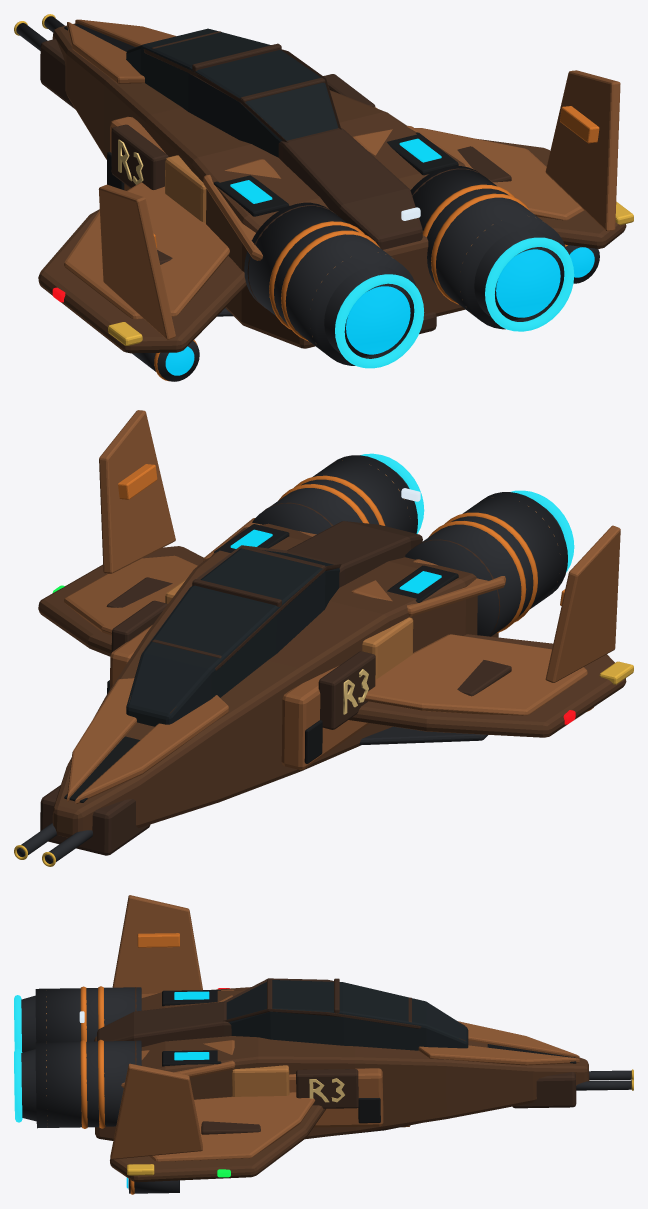
The model's file is raider3.glb.
The picture shows the model from 3 angles, top to bottom: view 1: azimuth 30°, elevation 25°; view 2: azimuth 150°, elevation 25°; view 3: azimuth 270°, elevation 25°; orthographic projection. The views are drawn at different scales.
Parts seen in each view (by area): view 1: Static_Raider3BrownArmor, Static_Raider3UmberHull, Static_EngineIron, Static_Raider3DarkArmor, Canopy, Static_Raider3BurntOrange, ThrusterR, ThrusterL, Static_Raider3Recess, AfterburnerR, AfterburnerL, Static_Raider3WarmArmor (+5 smaller); view 2: Static_Raider3BrownArmor, Static_Raider3UmberHull, Static_EngineIron, Canopy, Static_Raider3DarkArmor, Static_Raider3BurntOrange, Static_Raider3Recess, Static_Raider3WarmArmor, Static_SystemsGlow, AfterburnerL, AfterburnerR, Static_Raider3OchreDetail; view 3: Static_Raider3BrownArmor, Static_Raider3UmberHull, Static_EngineIron, Canopy, Static_Raider3DarkArmor, Static_Raider3BurntOrange, Static_Raider3Recess, Static_Raider3WarmArmor, Static_SystemsGlow, AfterburnerR, AfterburnerL.
Part boxes in pixels (bbox=[...]): Static_Raider3BrownArmor: bbox=[64, 19, 620, 339]; Static_Raider3UmberHull: bbox=[38, 23, 626, 353]; Static_EngineIron: bbox=[16, 16, 599, 381]; Static_Raider3DarkArmor: bbox=[40, 31, 511, 334]; Canopy: bbox=[126, 28, 338, 157]; Static_Raider3BurntOrange: bbox=[153, 106, 599, 381]; ThrusterR: bbox=[496, 249, 560, 317]; ThrusterL: bbox=[346, 286, 410, 354]; Static_Raider3Recess: bbox=[64, 23, 458, 216]; AfterburnerR: bbox=[485, 237, 574, 331]; AfterburnerL: bbox=[335, 274, 424, 368]; Static_Raider3WarmArmor: bbox=[165, 107, 535, 336]; Static_Raider3BrownArmor: bbox=[64, 410, 620, 803]; Static_Raider3UmberHull: bbox=[38, 523, 626, 837]; Static_EngineIron: bbox=[17, 455, 567, 863]; Canopy: bbox=[126, 548, 339, 726]; Static_Raider3DarkArmor: bbox=[40, 502, 511, 855]; Static_Raider3BurntOrange: bbox=[118, 464, 593, 711]; Static_Raider3Recess: bbox=[64, 524, 458, 802]; Static_Raider3WarmArmor: bbox=[165, 460, 560, 679]; Static_SystemsGlow: bbox=[230, 529, 441, 593]; AfterburnerL: bbox=[511, 490, 574, 572]; AfterburnerR: bbox=[360, 453, 424, 533]; Static_Raider3OchreDetail: bbox=[14, 661, 633, 866]; Static_Raider3BrownArmor: bbox=[110, 895, 579, 1161]; Static_Raider3UmberHull: bbox=[94, 987, 589, 1182]; Static_EngineIron: bbox=[21, 987, 631, 1193]; Canopy: bbox=[226, 980, 468, 1050]; Static_Raider3DarkArmor: bbox=[97, 978, 576, 1135]; Static_Raider3BurntOrange: bbox=[80, 933, 179, 1194]; Static_Raider3Recess: bbox=[162, 990, 576, 1123]; Static_Raider3WarmArmor: bbox=[46, 996, 289, 1126]; Static_SystemsGlow: bbox=[174, 991, 209, 1060]; AfterburnerR: bbox=[14, 1048, 22, 1122]; AfterburnerL: bbox=[14, 995, 22, 1052].
Size of the model in its own units: 7.01 by 2.64 by 9.97.
